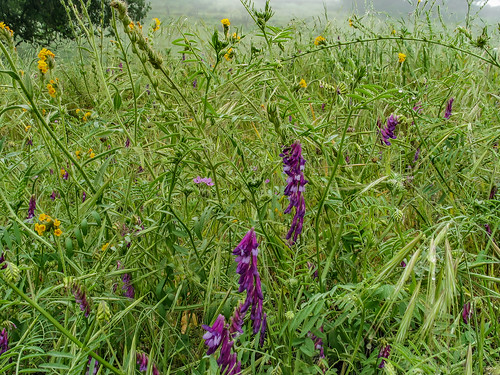vegetation: (10, 1, 500, 375)
